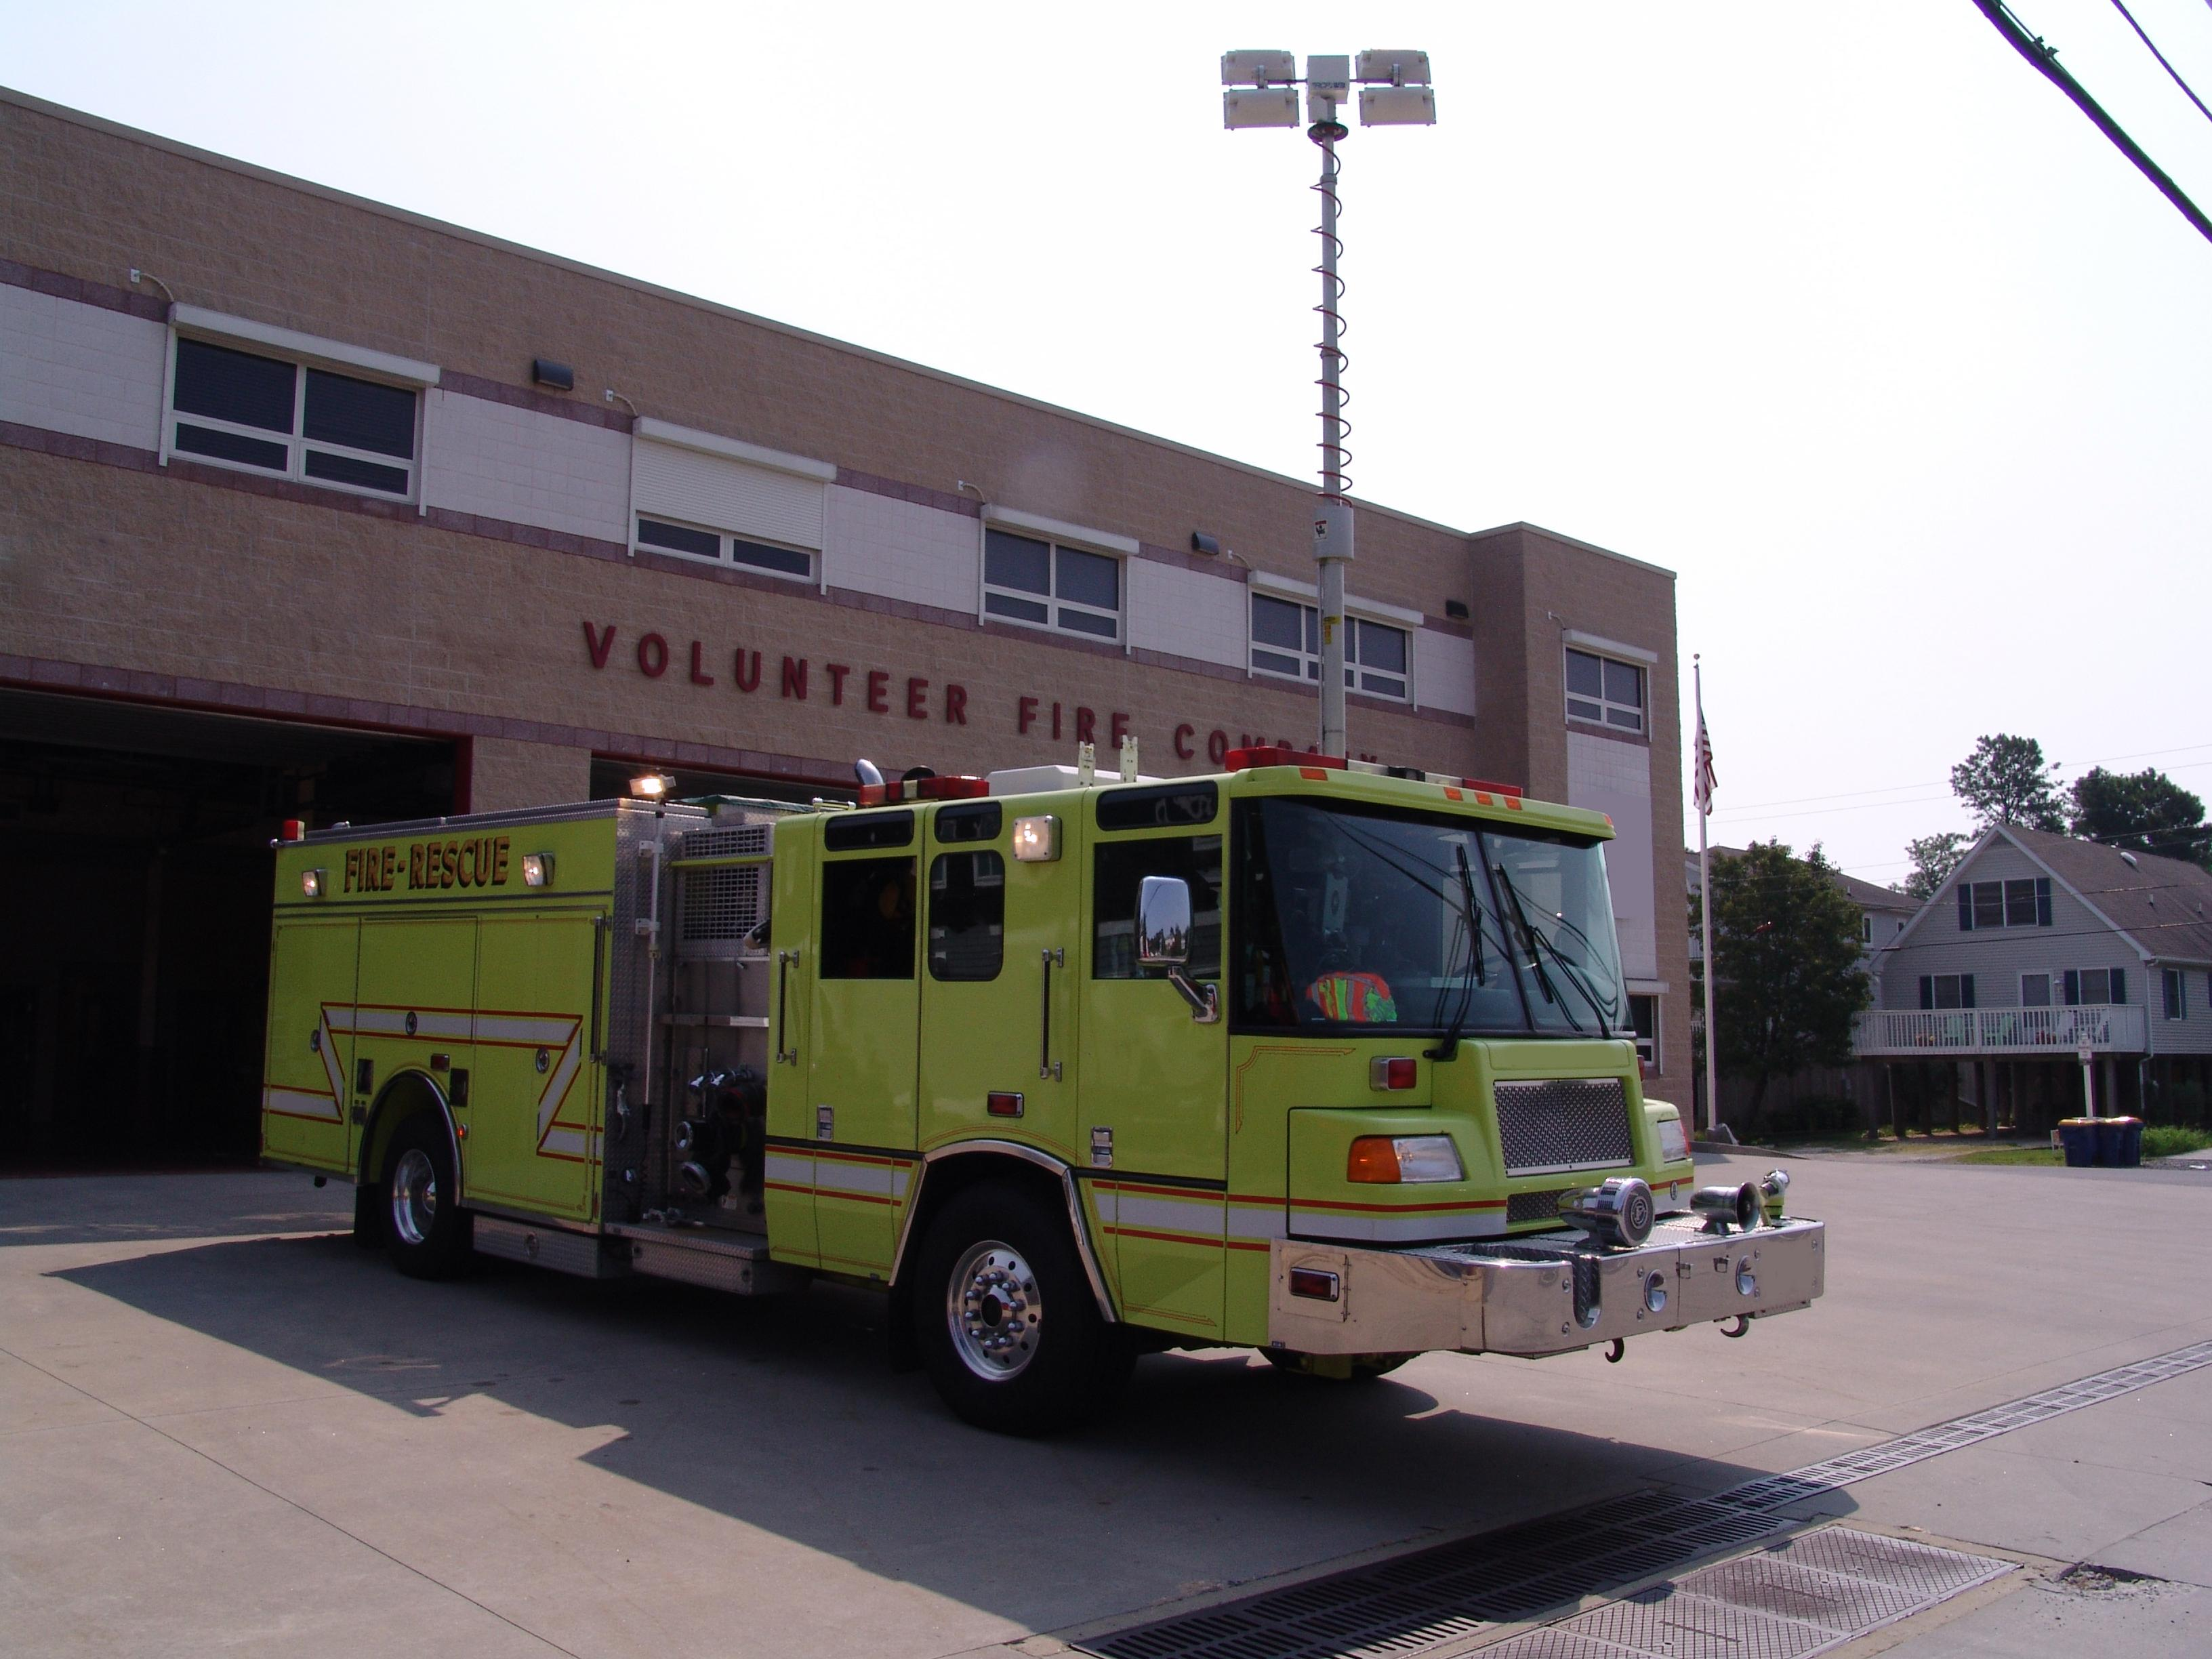firetruck_off: (262, 753, 1836, 1429)
